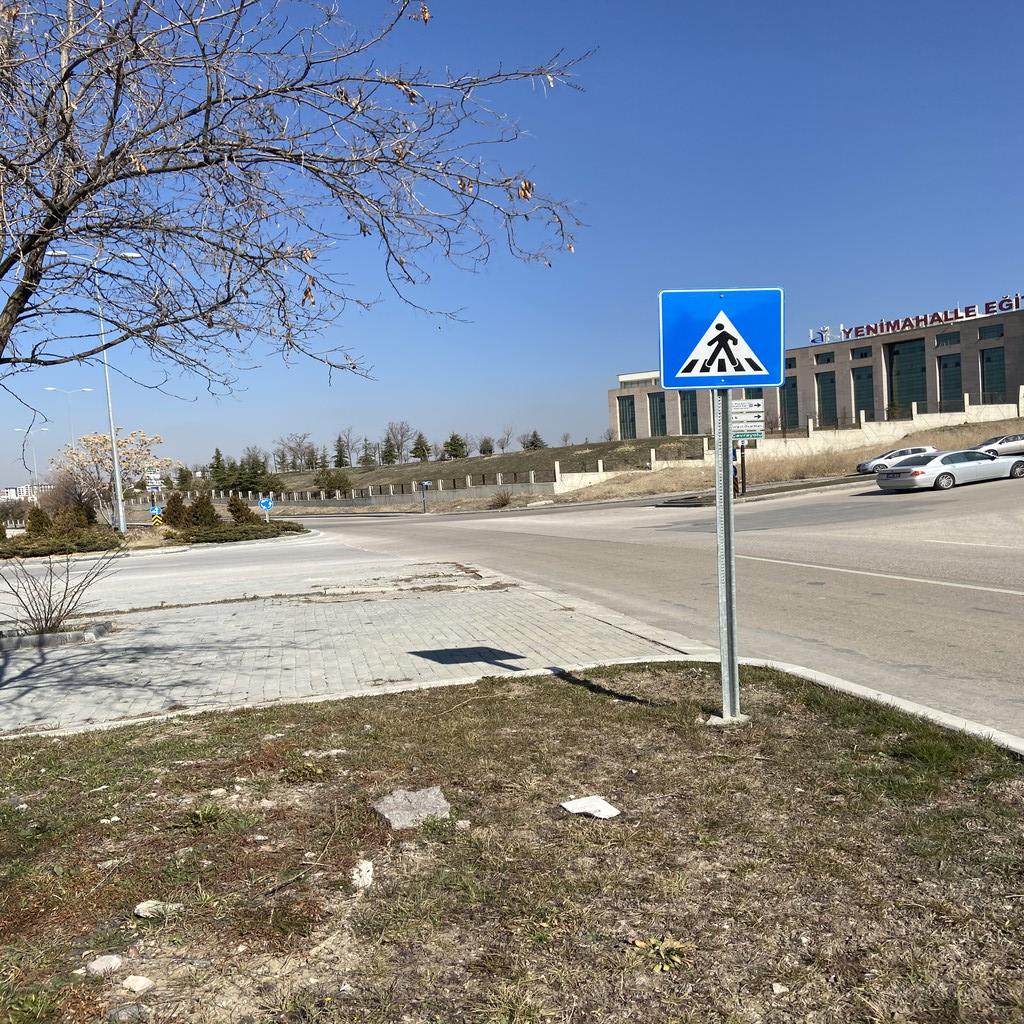Yaya Gecidi: (661, 286, 782, 388)
